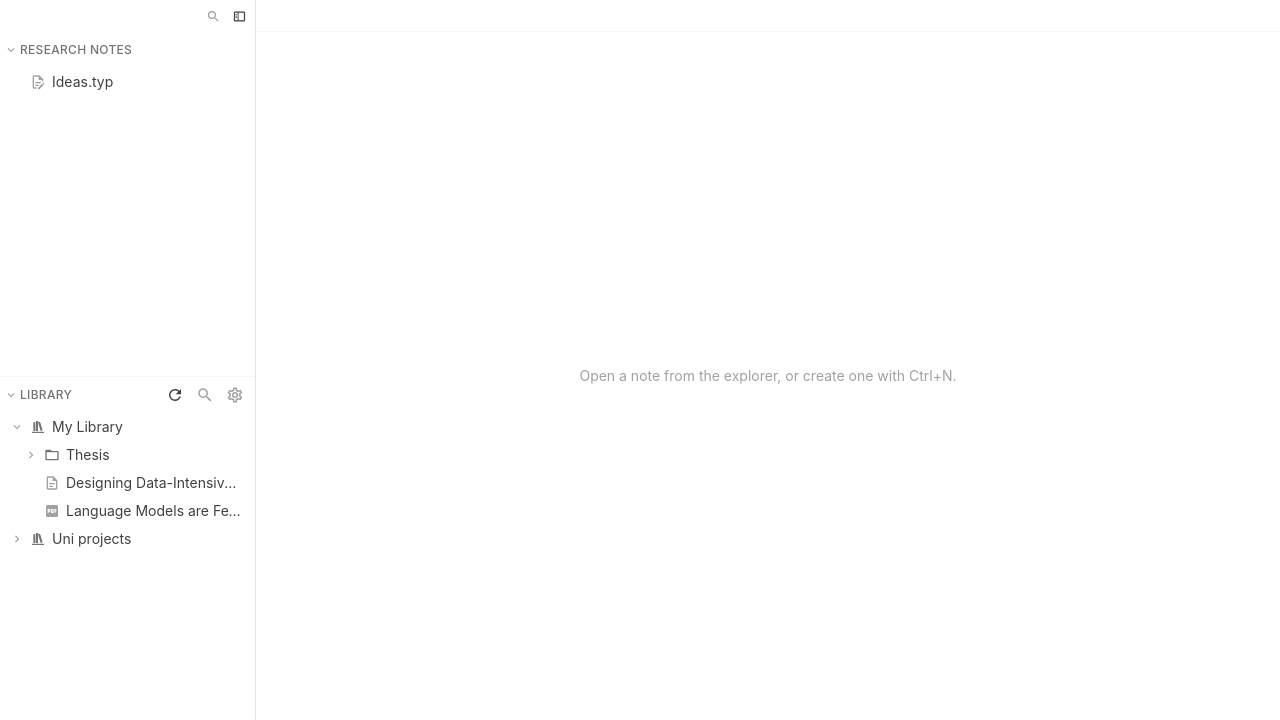
Test: The Library › the Search button shows the field, ready to type in; Escape clears it and hides it again
Expected: the heading "Research Notes" is shown, [4,40,161,60]
Expected: the button "My Library" is shown, [6,412,249,440]
Click the button named "Search the library" at {"x": 205, "y": 394}, box [191,380,219,408]
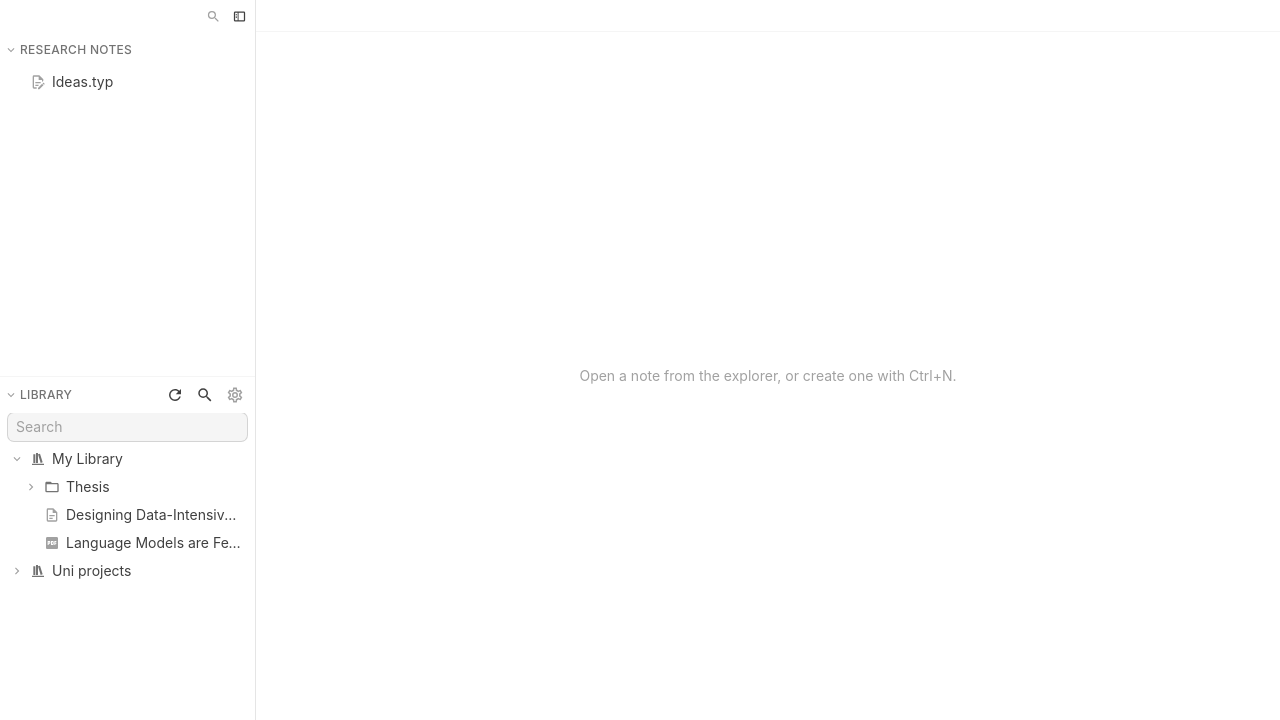
Type keys "kub"
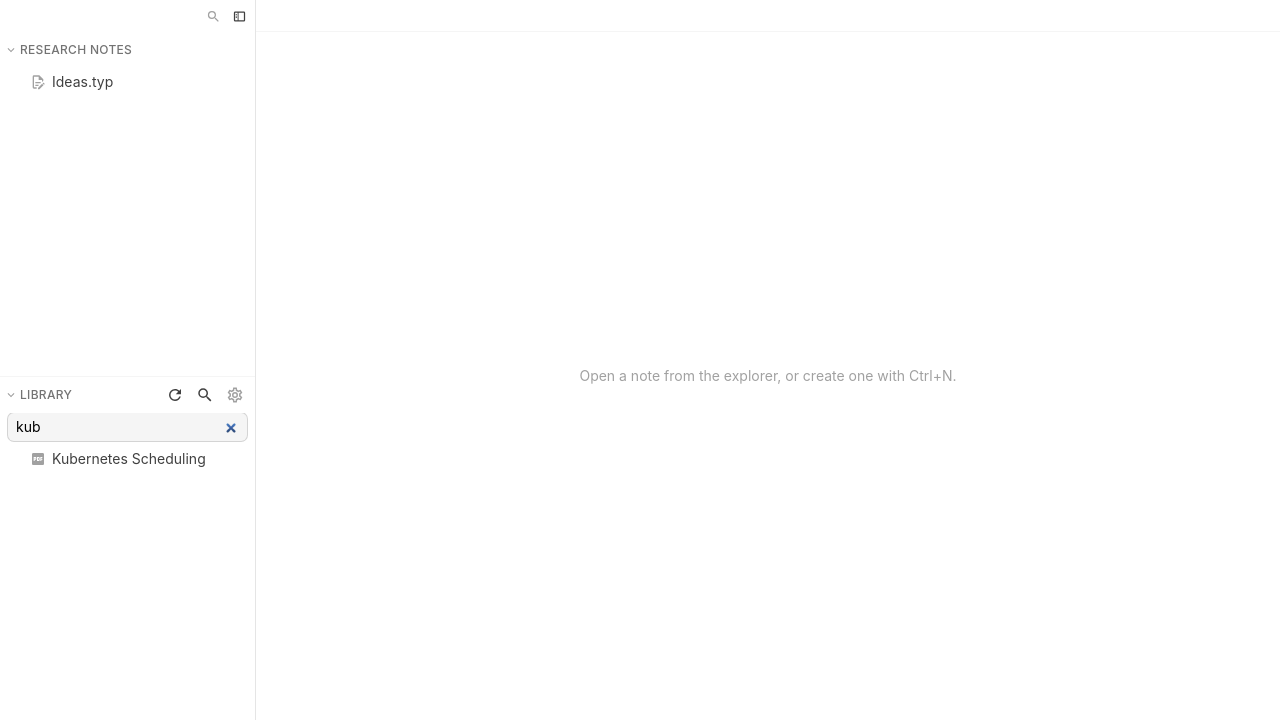
Expected: the button "My Library" is gone
Press Escape
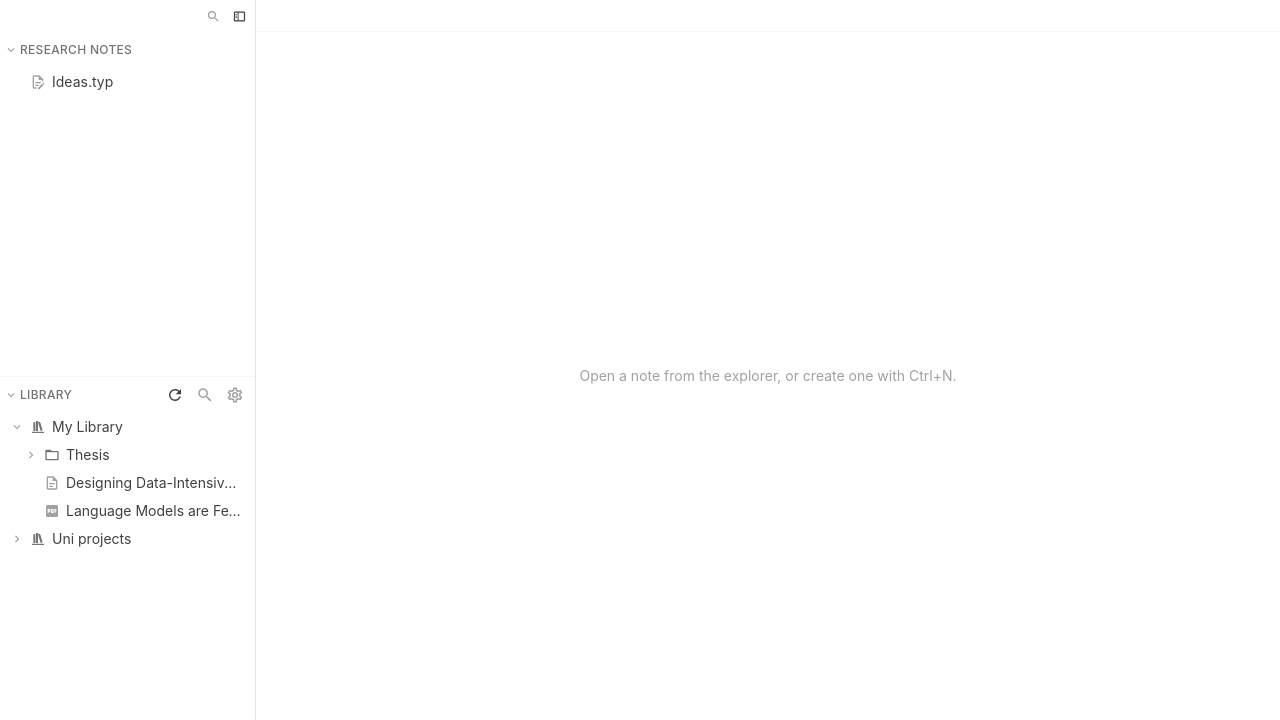
Expected: the button "My Library" is shown, [6,412,249,440]
